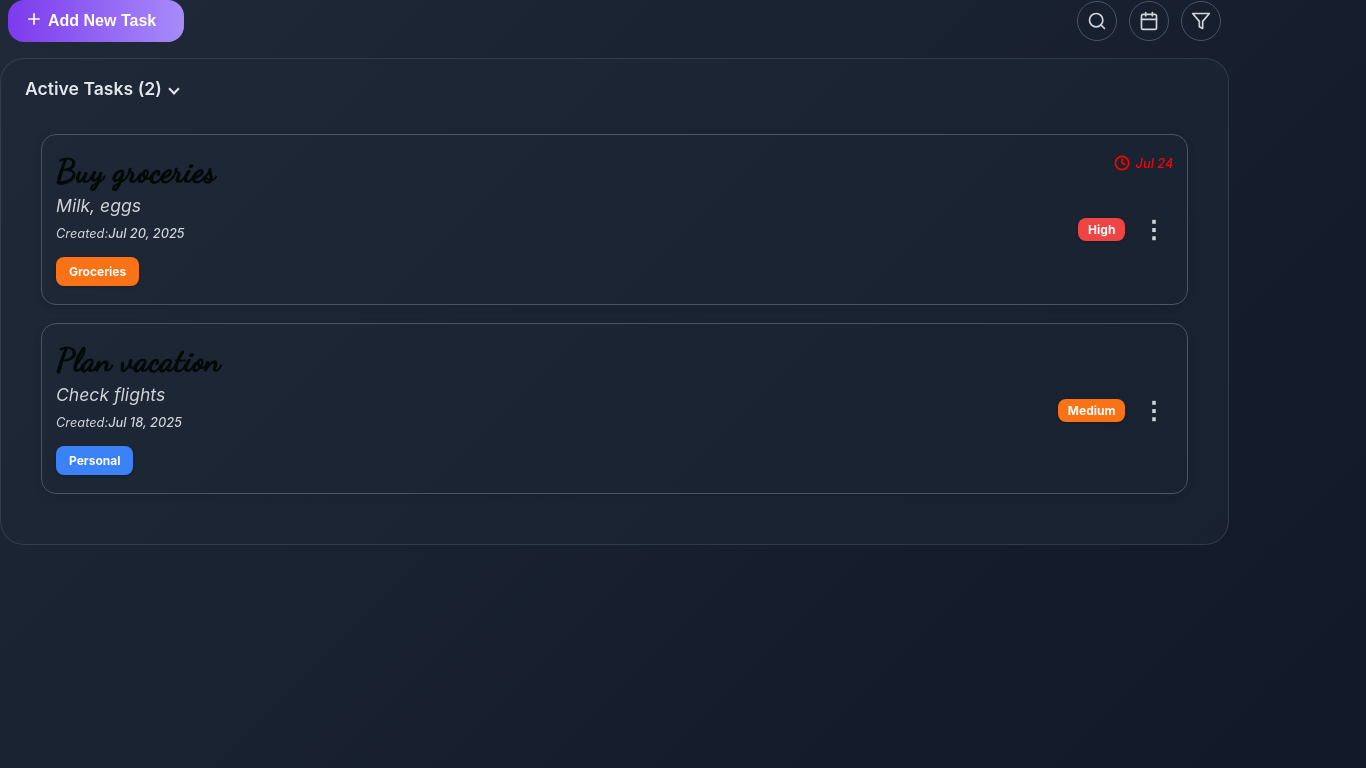
Test: TodoList › filters by category pill click
This screenshot has width=1366, height=768.
Click the text "Groceries" at (98, 272), box top-left (56, 257), bottom-right (139, 286)
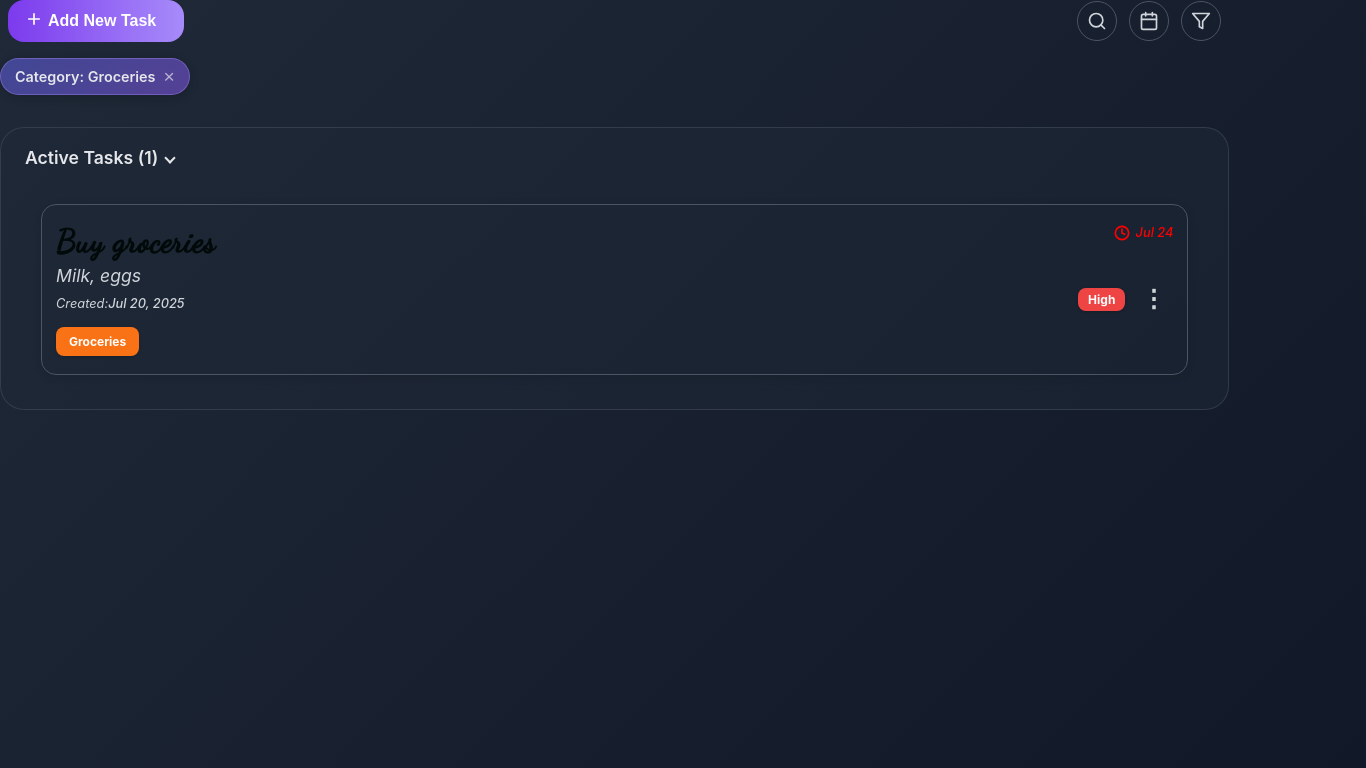
Expected: the text "Buy groceries" is shown, top-left (56, 223), bottom-right (215, 261)
Result: the text "Category: Groceries" is shown at top-left (15, 68), bottom-right (156, 85)
Result: the text "Plan vacation" is gone
